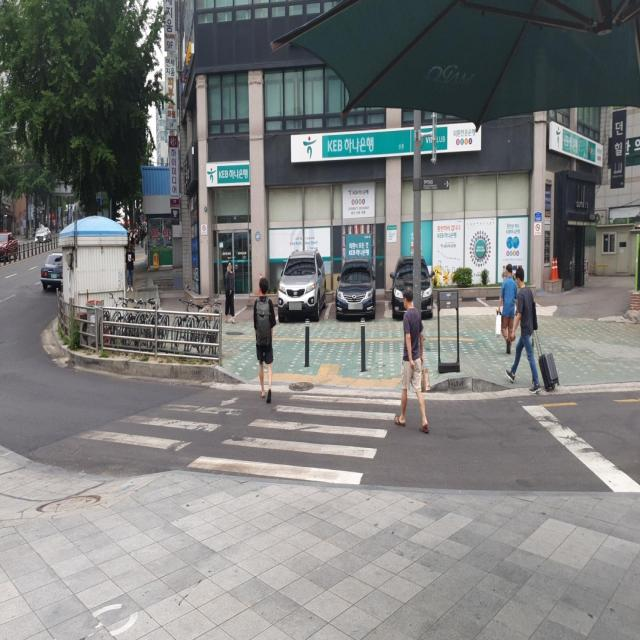횡단보도: (79, 390, 403, 487)
